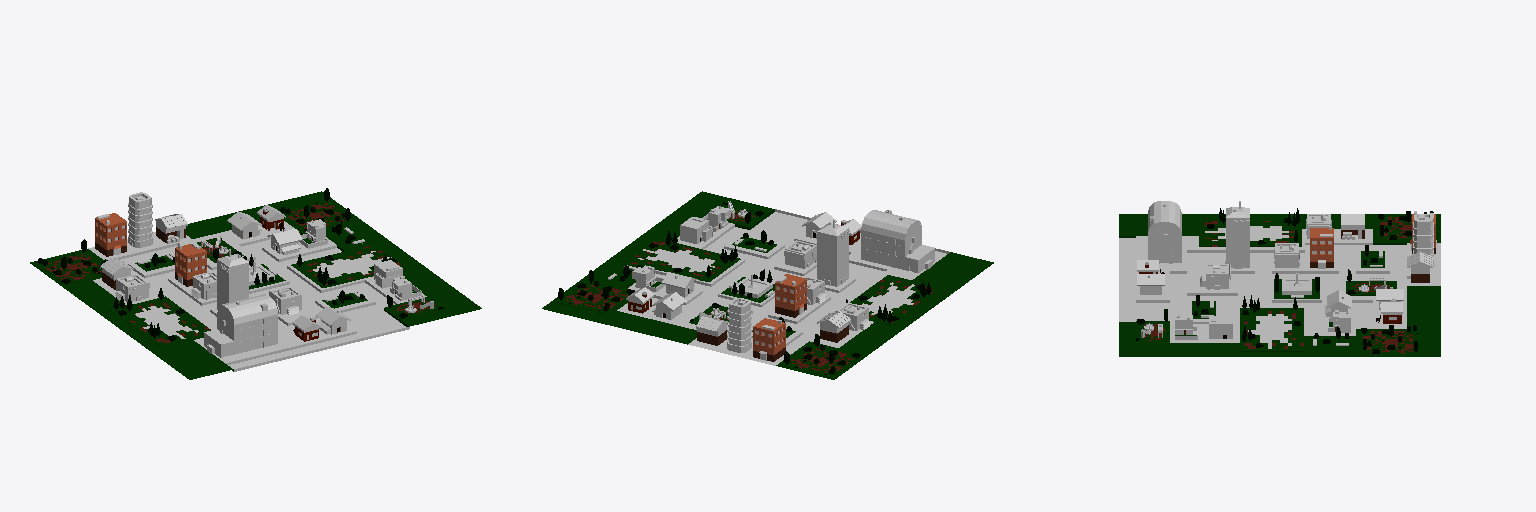
File: city.obj
The picture shows the model from 3 angles: view 1: azimuth 30°, elevation 25°; view 2: azimuth 150°, elevation 25°; view 3: azimuth 270°, elevation 25°; orthographic projection.
Parts seen in each view (by area): view 1: suelo, Plane.032, Plane.005, Plane.048, Plane.008, Plane.030, Plane.002, Plane.006, Plane.007, Plane.051, Plane.056, Plane.034 (+12 smaller); view 2: suelo, Plane.032, Plane.048, Plane.005, Plane.030, Plane.008, Plane.002, Plane.007, Plane.006, Plane.051, Cube.014, Plane.014 (+8 smaller); view 3: suelo, Plane.048, Plane.005, Plane.032, Plane.002, Plane.030, Plane.008, Cube.014, Plane.051, Plane.006, Plane.056, Plane.040 (+7 smaller).
Part boxes in pixels (x1,y1,x2,y2): suelo: (30, 191, 481, 379); Plane.032: (204, 294, 277, 357); Plane.005: (110, 288, 210, 347); Plane.048: (291, 243, 411, 287); Plane.008: (34, 239, 107, 284); Plane.030: (217, 249, 248, 309); Plane.002: (280, 188, 358, 233); Plane.006: (128, 192, 152, 247); Plane.007: (95, 213, 126, 256); Plane.051: (175, 242, 206, 286); Plane.056: (385, 295, 445, 319); Plane.034: (115, 274, 149, 301); suelo: (542, 191, 993, 379); Plane.032: (861, 210, 934, 273); Plane.048: (620, 231, 740, 281); Plane.005: (846, 275, 943, 325); Plane.030: (816, 220, 849, 286); Plane.008: (780, 334, 862, 377); Plane.002: (554, 270, 634, 313); Plane.007: (753, 318, 785, 361); Plane.006: (727, 298, 751, 352); Plane.051: (775, 274, 806, 317); Cube.014: (721, 269, 774, 302); Plane.014: (817, 311, 850, 342); suelo: (1119, 214, 1440, 356); Plane.048: (1240, 295, 1303, 351); Plane.005: (1199, 208, 1301, 246); Plane.032: (1148, 201, 1181, 263); Plane.002: (1359, 325, 1419, 354); Plane.030: (1225, 201, 1249, 268); Plane.008: (1376, 211, 1436, 240); Cube.014: (1274, 273, 1319, 298); Plane.051: (1310, 226, 1333, 268); Plane.006: (1413, 214, 1433, 267); Plane.056: (1136, 309, 1169, 341); Plane.040: (1346, 269, 1396, 295).
Bounding box in the file's own units: 20 × 4.23 × 19.